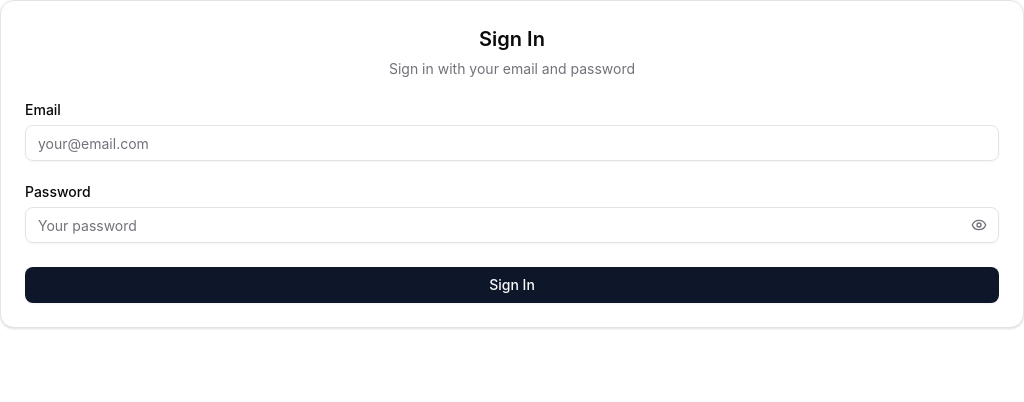
LoginForm › deve mostrar erros de validação com campos vazios
Step 1. Click the button "Sign In" → (512, 285), box [25, 267, 999, 303]
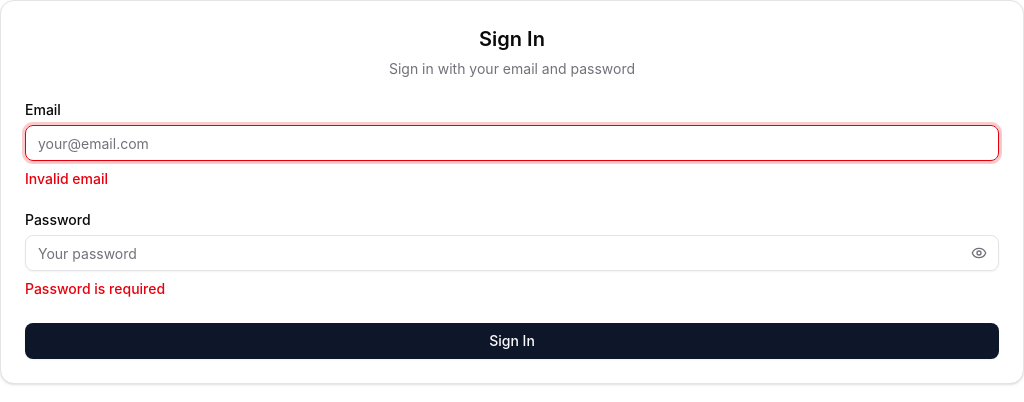
Now the text "Invalid email" is shown, box [25, 170, 108, 187]
Now the text "Password is required" is shown, box [25, 280, 165, 297]
